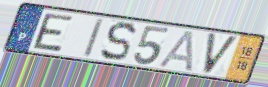5: (132, 25, 171, 67)
A: (156, 29, 196, 74)
E: (31, 12, 75, 54)
I: (81, 17, 106, 60)
S: (99, 21, 138, 63)
V: (202, 31, 241, 76)
